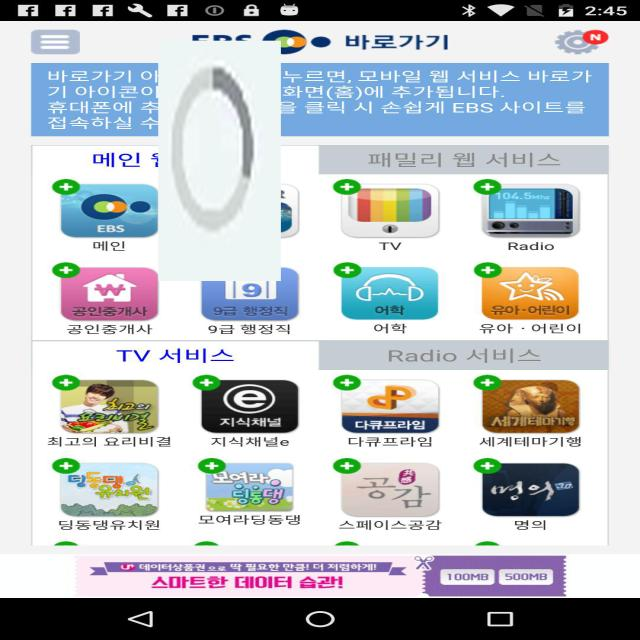misdirection: (158, 41, 281, 281)
